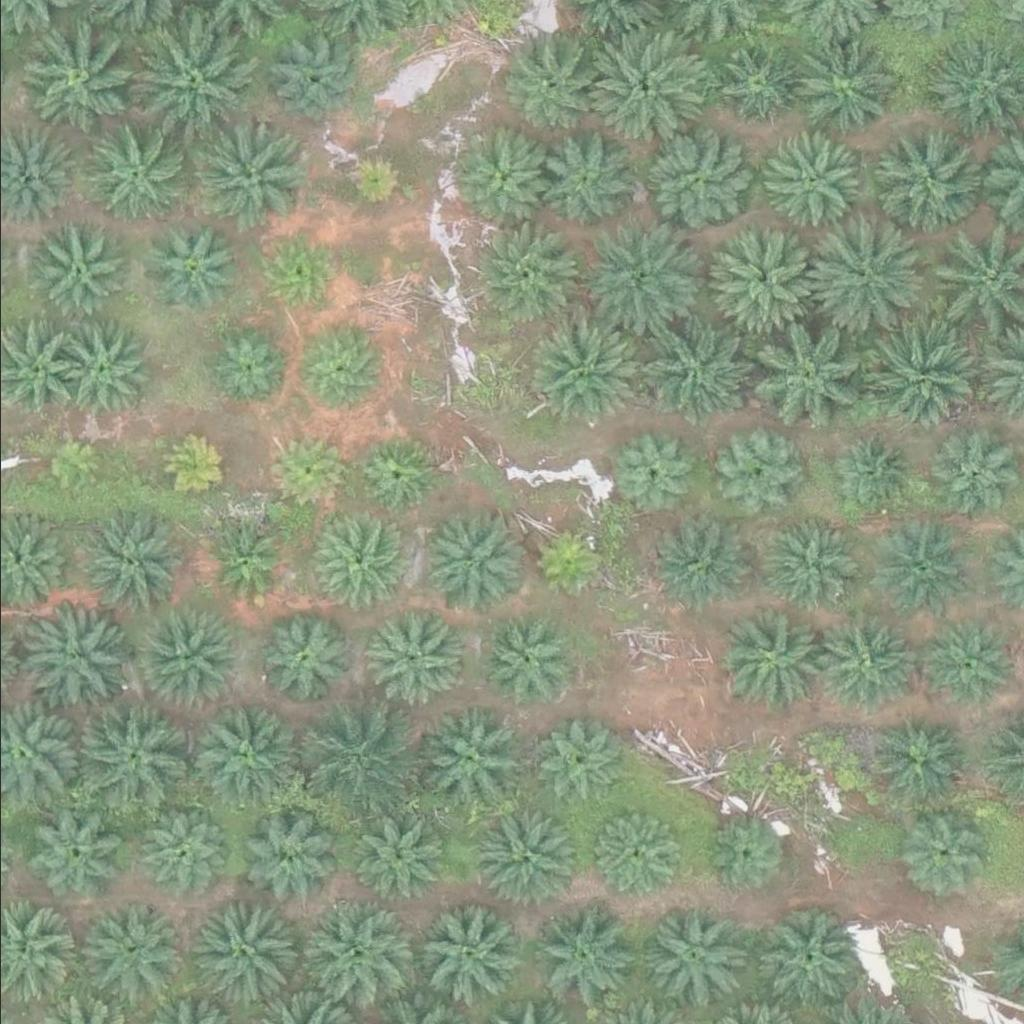Kelapa_Sawit: (76, 506, 190, 619), (800, 224, 914, 337), (79, 702, 192, 815), (11, 604, 124, 717), (296, 897, 409, 1010), (415, 700, 528, 813), (292, 701, 405, 814), (860, 318, 973, 431), (744, 311, 857, 424), (129, 22, 242, 135), (173, 896, 287, 1008), (628, 310, 742, 422), (524, 314, 638, 426), (467, 216, 581, 328), (20, 18, 133, 130), (579, 224, 692, 336), (706, 224, 819, 336), (870, 116, 983, 228), (782, 31, 895, 143), (594, 31, 707, 143), (193, 119, 306, 231), (136, 605, 237, 705), (52, 319, 153, 419), (139, 213, 240, 313), (23, 220, 124, 320), (83, 126, 184, 226), (534, 908, 635, 1008), (237, 807, 338, 907), (810, 614, 911, 714), (718, 610, 819, 710), (478, 611, 579, 711), (368, 611, 469, 711), (245, 604, 346, 704), (762, 515, 863, 615), (653, 516, 754, 616), (416, 509, 517, 609), (308, 508, 409, 608), (756, 130, 857, 230), (644, 130, 745, 230), (535, 132, 636, 232), (496, 27, 597, 127), (132, 801, 232, 901), (757, 910, 857, 1010), (633, 900, 733, 1000), (420, 901, 520, 1001), (195, 709, 295, 809), (352, 811, 452, 911), (476, 810, 576, 910), (860, 517, 960, 617), (450, 132, 550, 232), (73, 902, 174, 1001), (596, 809, 685, 897), (31, 807, 119, 895), (525, 519, 613, 607), (297, 327, 385, 415), (205, 327, 293, 415), (265, 425, 353, 513), (354, 433, 442, 521), (894, 808, 982, 896), (534, 715, 622, 803), (927, 620, 1015, 708), (609, 428, 697, 516), (717, 432, 805, 520), (711, 35, 799, 123), (272, 40, 360, 128), (255, 228, 343, 315), (699, 811, 787, 898), (871, 716, 959, 803), (205, 518, 293, 605), (825, 430, 913, 517), (930, 430, 1018, 517), (155, 430, 231, 505), (339, 145, 402, 208), (39, 435, 102, 497)
